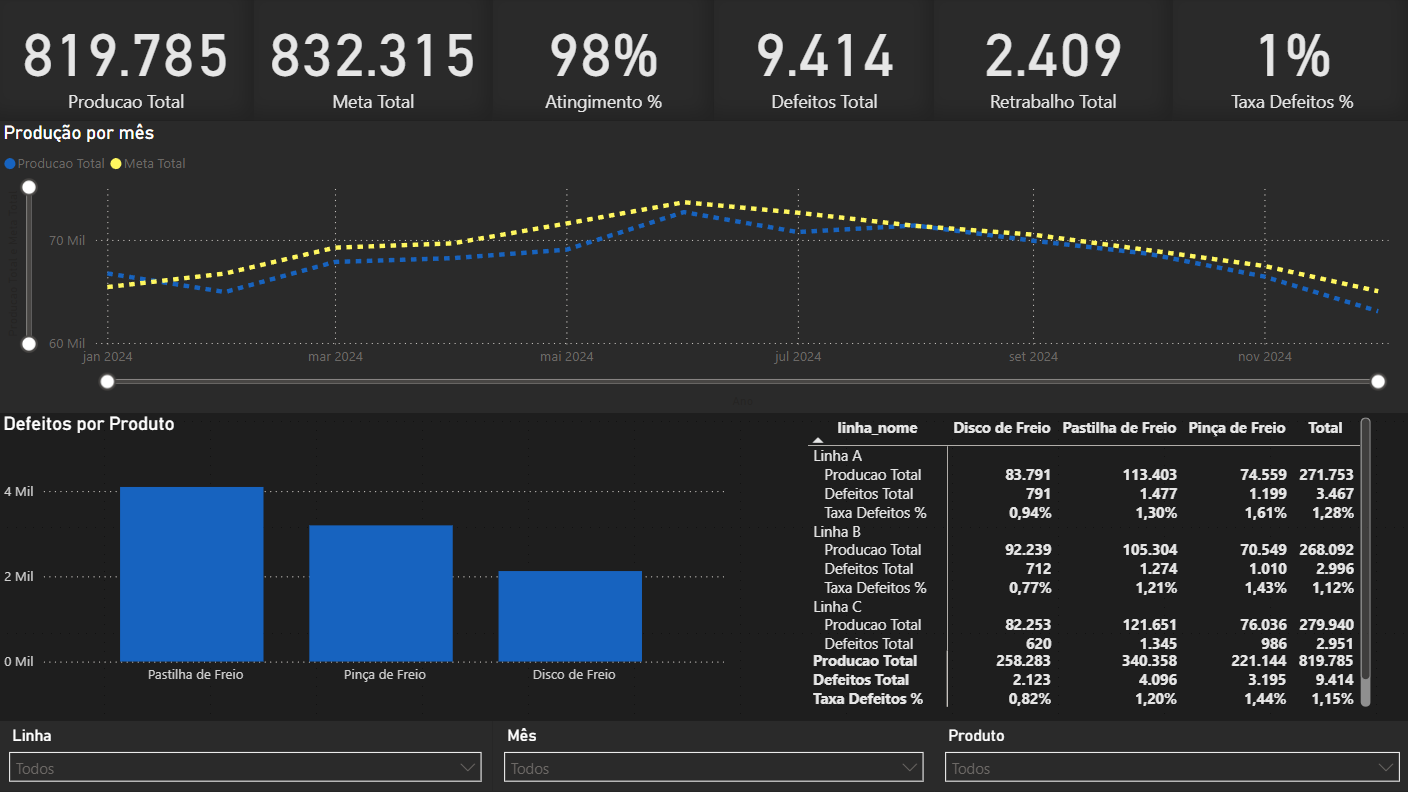

This screenshot's page, from the dashboard's own definition file:
{"tool":"powerbi","page":{"name":"Dashboard principal","canvas":[1280,720],"ordinal":0},"visuals":[{"type":"card","fields":{"Values":["Fato_Producao_Mensal.Producao Total"]},"box":[0,0,232,112],"z":0},{"type":"card","fields":{"Values":["Fato_Producao_Mensal.Meta Total"]},"box":[232,0,216,112],"z":1000},{"type":"card","fields":{"Values":["Fato_Producao_Mensal.Atingimento %"]},"box":[448,0,200,112],"z":2000},{"type":"card","fields":{"Values":["Fato_Qualidade_Mensal.Defeitos Total"]},"box":[648,0,200,112],"z":3000},{"type":"card","fields":{"Values":["Fato_Qualidade_Mensal.Taxa Defeitos %"]},"box":[1064,0,216,112],"z":4000},{"type":"card","fields":{"Values":["Fato_Qualidade_Mensal.Retrabalho Total"]},"box":[848,0,216,112],"z":5000},{"type":"lineChart","title":"Produção por mês","fields":{"Y":["Fato_Producao_Mensal.Producao Total","Fato_Producao_Mensal.Meta Total"],"Category":["Dim_Mes.data_mes.Variação.Hierarquia de Datas.Ano","Dim_Mes.data_mes.Variação.Hierarquia de Datas.Trimestre","Dim_Mes.data_mes.Variação.Hierarquia de Datas.Mês","Dim_Mes.data_mes.Variação.Hierarquia de Datas.Dia"]},"box":[0,112,1280,264],"z":6000},{"type":"slicer","fields":{"Values":["Dim_Produto.produto_nome"]},"box":[848,656,432,64],"z":7000},{"type":"slicer","fields":{"Values":["Dim_Linha.linha_nome"]},"box":[0,656,448,64],"z":8000},{"type":"slicer","fields":{"Values":["Dim_Mes.Mes_Ano"]},"box":[448,656,400,64],"z":9000},{"type":"columnChart","title":"Defeitos por Produto","fields":{"Category":["Dim_Produto.produto_nome"],"Y":["Fato_Qualidade_Mensal.Defeitos Total"]},"box":[0,376,664,256],"z":10000},{"type":"pivotTable","fields":{"Rows":["Dim_Linha.linha_nome"],"Columns":["Dim_Produto.produto_nome"],"Values":["Fato_Producao_Mensal.Producao Total","Fato_Qualidade_Mensal.Defeitos Total","Fato_Qualidade_Mensal.Taxa Defeitos %"]},"box":[728,376,520,272],"z":11000}]}

Visuals, with their boxes in screenshot pixels (x1, y1, x2, y2), scaled from the page's 1280x720 canvas onto the 1408x792 screenshot:
card - Fato_Producao_Mensal.Producao Total: [0, 0, 255, 123]
card - Fato_Producao_Mensal.Meta Total: [255, 0, 493, 123]
card - Fato_Producao_Mensal.Atingimento %: [493, 0, 713, 123]
card - Fato_Qualidade_Mensal.Defeitos Total: [713, 0, 933, 123]
card - Fato_Qualidade_Mensal.Taxa Defeitos %: [1170, 0, 1407, 123]
card - Fato_Qualidade_Mensal.Retrabalho Total: [933, 0, 1170, 123]
"Produção por mês" lineChart: [0, 123, 1407, 414]
slicer - Dim_Produto.produto_nome: [933, 722, 1407, 791]
slicer - Dim_Linha.linha_nome: [0, 722, 493, 791]
slicer - Dim_Mes.Mes_Ano: [493, 722, 933, 791]
"Defeitos por Produto" columnChart: [0, 414, 730, 695]
pivotTable - Dim_Linha.linha_nome x Dim_Produto.produto_nome: [801, 414, 1373, 713]
